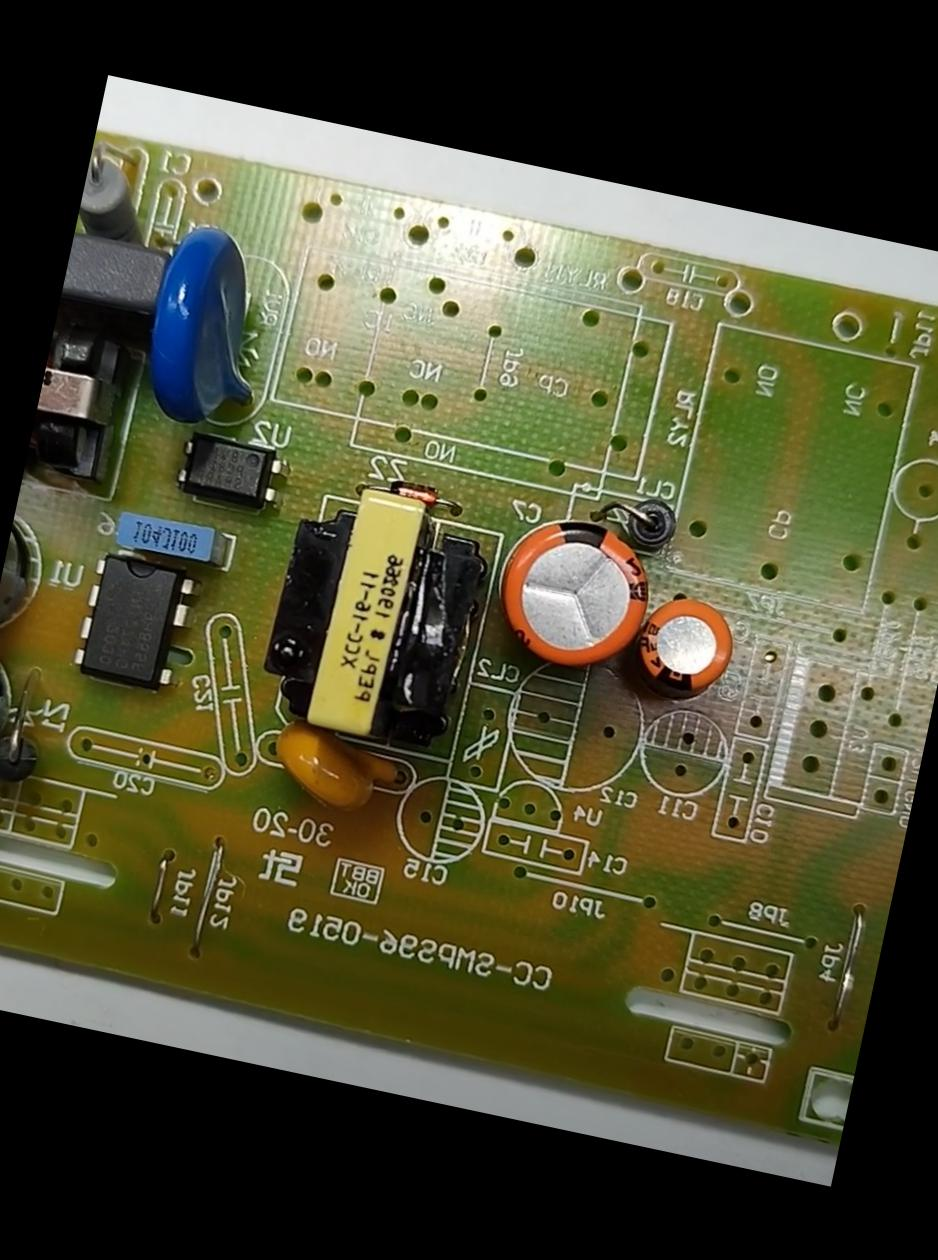Cap1: (478, 496, 668, 689)
Cap2: (617, 580, 750, 701)
Cap3: (0, 478, 75, 651)
Cap4: (0, 640, 29, 822)
MOSFET: (63, 538, 209, 694)
Mov: (124, 201, 281, 444)
Resistor: (75, 149, 159, 242)
Transformer: (245, 465, 504, 759), (20, 307, 150, 504)
